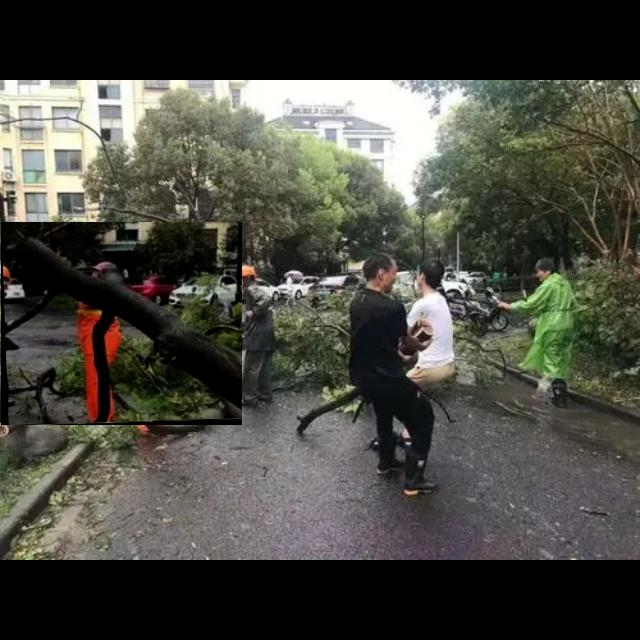Fallen Tree: (1, 222, 243, 426)
